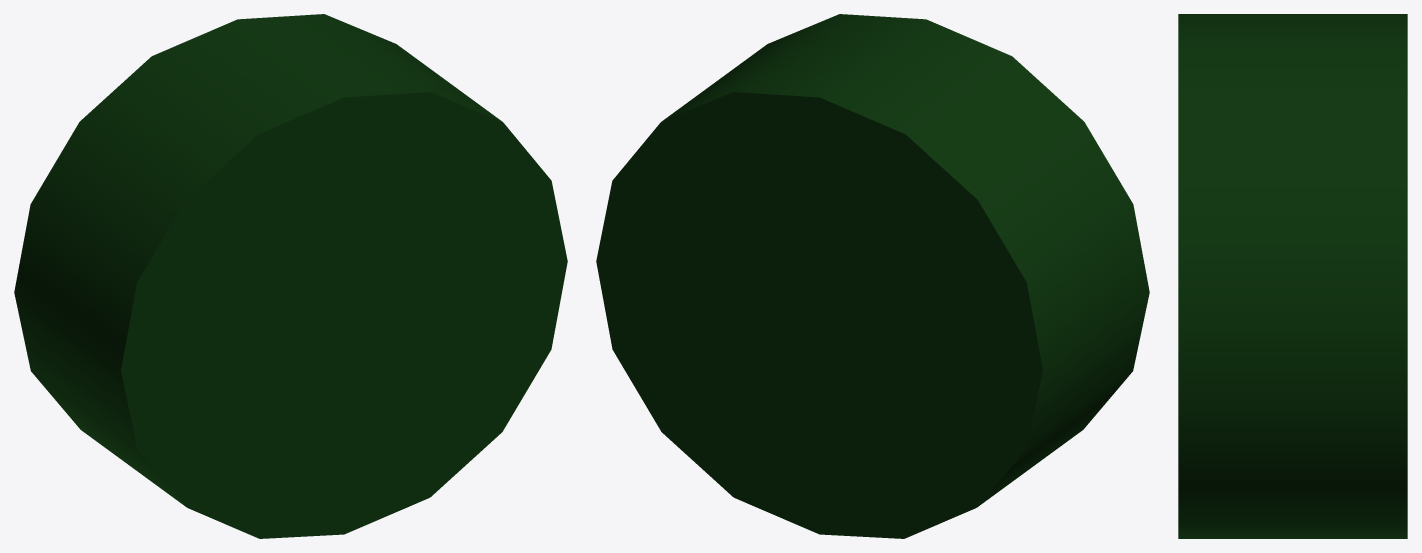
Rendered from original-29.obj.
3 views of the same model, side by side, from view 1: azimuth 30°, elevation 25°; view 2: azimuth 150°, elevation 25°; view 3: azimuth 270°, elevation 25° (orthographic). The views are drawn at different scales.
Visible parts, largest first — view 1: mesh39/mesh39-geometry#mesh39-geometry; view 2: mesh39/mesh39-geometry#mesh39-geometry; view 3: mesh39/mesh39-geometry#mesh39-geometry.
Part boxes in pixels (x1,y1,x2,y2): mesh39/mesh39-geometry#mesh39-geometry: (14,14,567,538); mesh39/mesh39-geometry#mesh39-geometry: (596,14,1149,538); mesh39/mesh39-geometry#mesh39-geometry: (1178,14,1407,538).
Size of the model in its own units: 0.00791 by 0.00739 by 0.00327.
